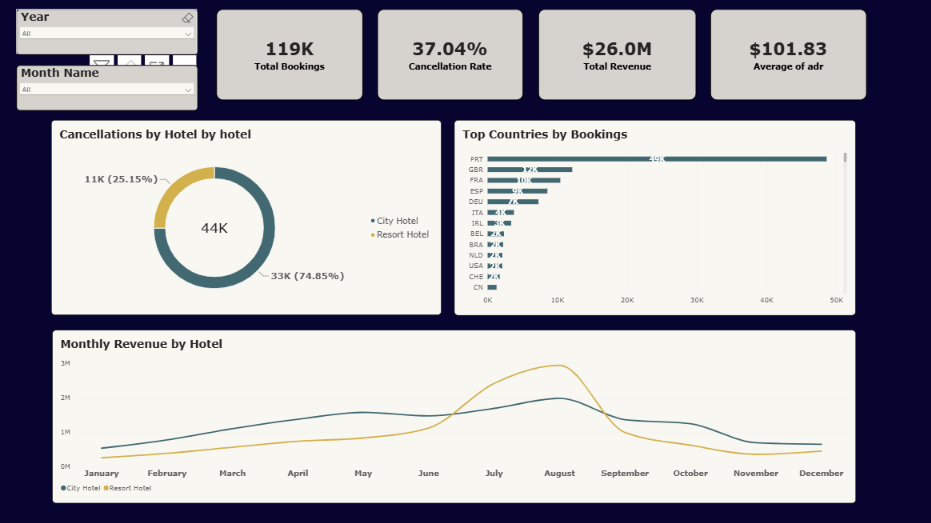

What the dashboard file says about the page in this screenshot:
{"tool":"powerbi","page":{"name":"Executive Overview","canvas":[1920,1080],"ordinal":0},"visuals":[{"type":"card","fields":{"Values":["CountNonNull(hotel_bookings_main.arrival_date_month)"]},"box":[447,18.1,302.2,188.2],"z":0},{"type":"card","fields":{"Values":["Avg(hotel_bookings_main.is_canceled)"]},"box":[778.2,18.1,300.4,188.2],"z":1000},{"type":"card","fields":{"Values":["Sum(hotel_bookings_main.revenue)"]},"box":[1109.3,18.1,325.7,188.2],"z":2000},{"type":"card","fields":{"Values":["Avg(hotel_bookings_main.adr)"]},"box":[1464,18.1,322.1,188.2],"z":3000},{"type":"donutChart","fields":{"Category":["hotel_bookings_main.hotel"],"Y":["Sum(hotel_bookings_main.is_canceled)"]},"box":[108,248,803.5,401.7],"z":4000},{"type":"clusteredBarChart","title":"Top Countries by Bookings","fields":{"Category":["hotel_bookings_main.country"],"Y":["CountNonNull(hotel_bookings_main.country)"]},"box":[936,248,826,402],"z":5000},{"type":"lineChart","title":"Monthly Revenue by Hotel","fields":{"Category":["Month Order.Month Name"],"Series":["hotel_bookings_main.hotel"],"Y":["Sum(hotel_bookings_main.revenue)"]},"box":[108.6,678.6,1654,356.5],"z":6000},{"type":"slicer","fields":{"Values":["hotel_bookings_main.arrival_date_year"]},"box":[34,18,374,94],"z":7000},{"type":"slicer","fields":{"Values":["Month Order.Month Name"]},"box":[34,134,374,94],"z":8000}]}

Visuals, with their boxes in screenshot pixels (x1, y1, x2, y2), scaled from the page's 1920x1080 canvas onto the 931x523 screenshot:
card - CountNonNull(hotel_bookings_main.arrival_date_month): {"left": 217, "top": 9, "right": 363, "bottom": 100}
card - Avg(hotel_bookings_main.is_canceled): {"left": 377, "top": 9, "right": 523, "bottom": 100}
card - Sum(hotel_bookings_main.revenue): {"left": 538, "top": 9, "right": 696, "bottom": 100}
card - Avg(hotel_bookings_main.adr): {"left": 710, "top": 9, "right": 866, "bottom": 100}
donutChart - hotel_bookings_main.hotel x Sum(hotel_bookings_main.is_canceled): {"left": 52, "top": 120, "right": 442, "bottom": 315}
"Top Countries by Bookings" clusteredBarChart: {"left": 454, "top": 120, "right": 854, "bottom": 315}
"Monthly Revenue by Hotel" lineChart: {"left": 53, "top": 329, "right": 855, "bottom": 501}
slicer - hotel_bookings_main.arrival_date_year: {"left": 16, "top": 9, "right": 198, "bottom": 54}
slicer - Month Order.Month Name: {"left": 16, "top": 65, "right": 198, "bottom": 110}
